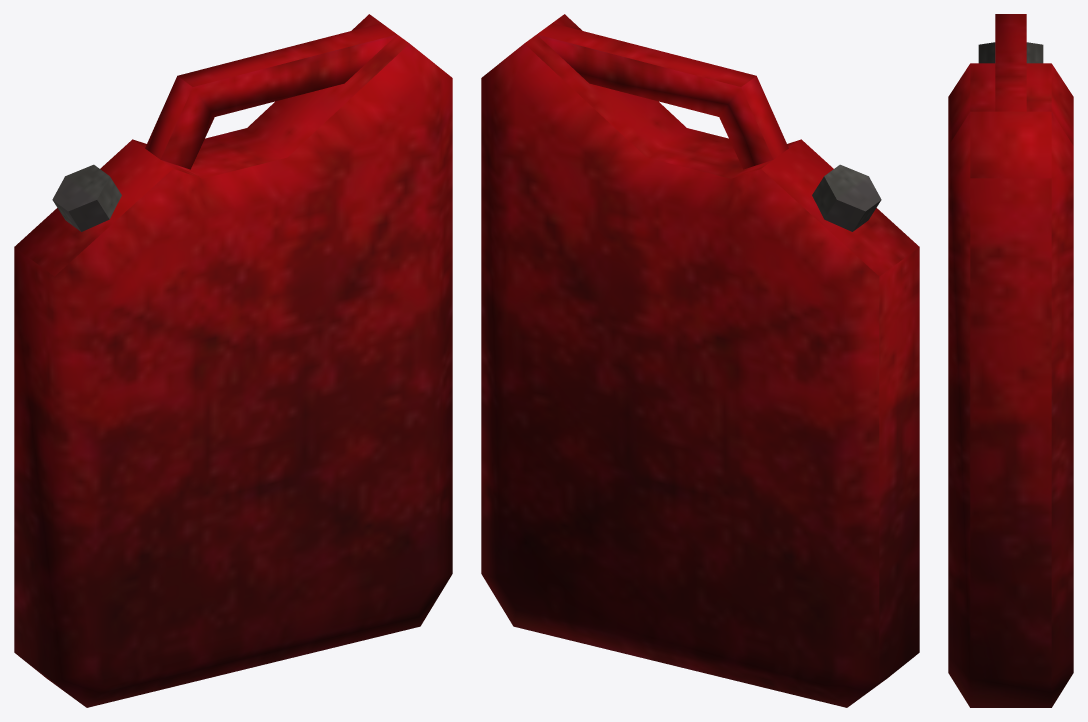
File: psx_industrial_pack_jerrycan.glb
3 renders of one model, left to right at view 1: azimuth 30°, elevation 25°; view 2: azimuth 150°, elevation 25°; view 3: azimuth 270°, elevation 25°, orthographic.
Parts seen in each view (by area): view 1: Jerrycan; view 2: Jerrycan; view 3: Jerrycan.
Part boxes in pixels (x1,y1,x2,y2): Jerrycan: [14, 14, 452, 707]; Jerrycan: [481, 14, 919, 707]; Jerrycan: [948, 14, 1073, 707].
Bounding box in the file's own units: 0.37 × 0.52 × 0.1.
1 material, 1 textured.
